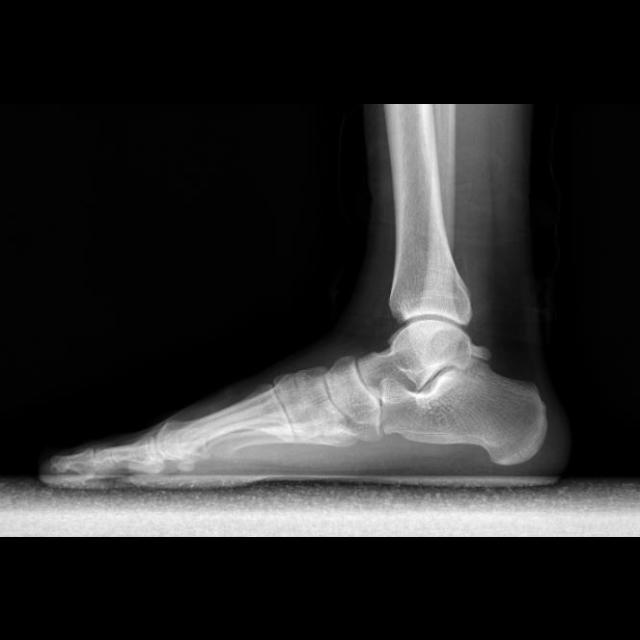a: (379, 354, 548, 464)
b: (326, 356, 381, 427)
c: (156, 387, 293, 472)
